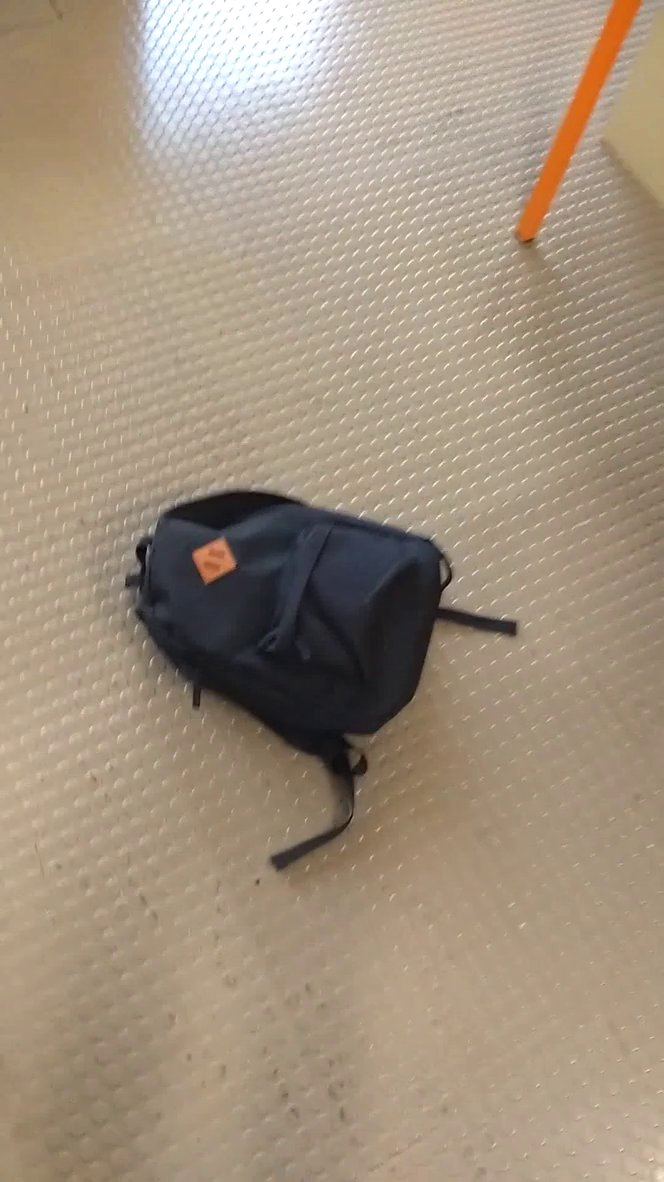bag: (117, 476, 532, 883)
